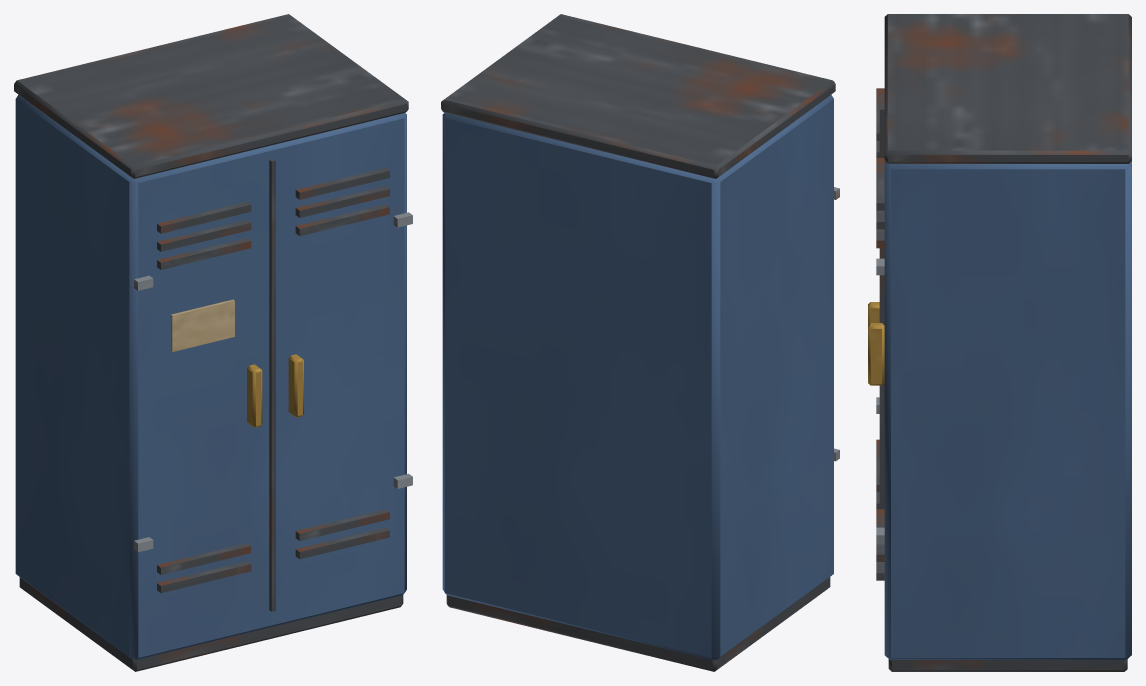
The model's file is SM_MetalLocker.fbx.
3 views of the same model, side by side, from view 1: azimuth 30°, elevation 25°; view 2: azimuth 150°, elevation 25°; view 3: azimuth 270°, elevation 25° (orthographic). The views are drawn at different scales.
Parts seen in each view (by area): view 1: SM_MetalLocker; view 2: SM_MetalLocker; view 3: SM_MetalLocker.
Boxes of the visible parts, x1,y1,x2,y2 form: SM_MetalLocker: [14, 14, 412, 671]; SM_MetalLocker: [441, 14, 839, 671]; SM_MetalLocker: [868, 14, 1131, 671].
Bounding box in the file's own units: 4 × 7 × 3.2.
1 material, 1 textured.
